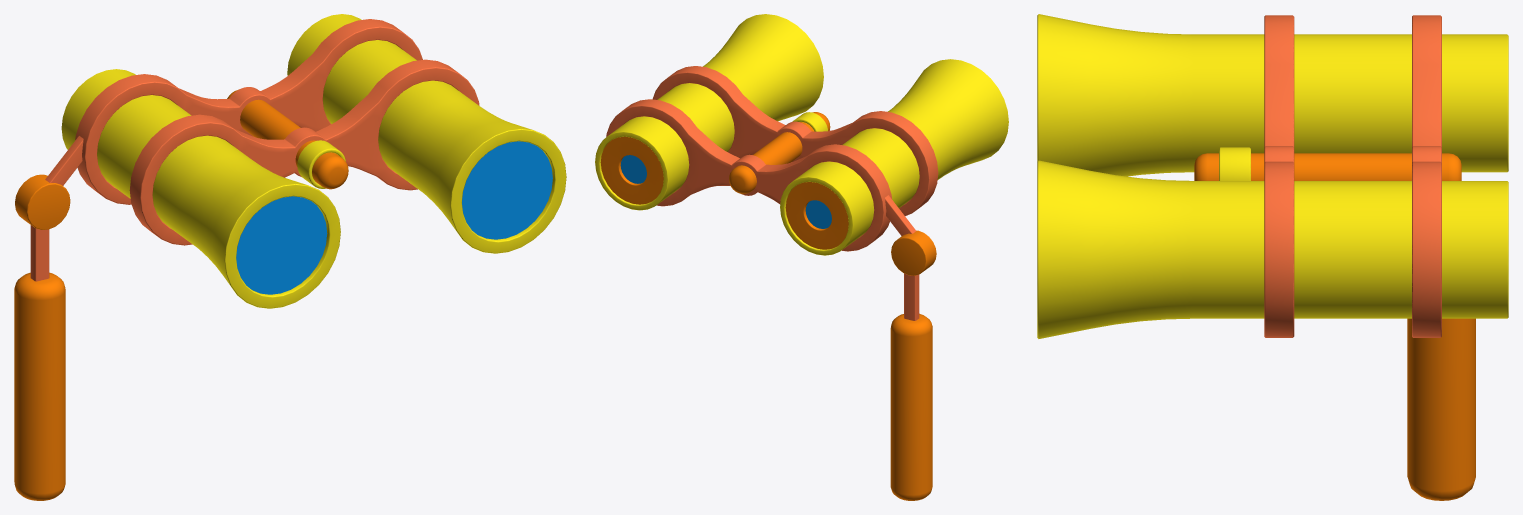
File: Public_12_Binoculars_2.glb
3 renders of one model, left to right at view 1: azimuth 30°, elevation 25°; view 2: azimuth 150°, elevation 25°; view 3: azimuth 270°, elevation 25°, orthographic. The views are drawn at different scales.
Parts seen in each view (by area): view 1: Public_12_Binoculars_2; view 2: Public_12_Binoculars_2; view 3: Public_12_Binoculars_2.
Part boxes in pixels (x1,y1,x2,y2): Public_12_Binoculars_2: (14, 14, 566, 500); Public_12_Binoculars_2: (595, 14, 1008, 500); Public_12_Binoculars_2: (1037, 14, 1508, 500).
Size of the model in its own units: 3.41 by 3.26 by 2.64.
1 material, 1 textured.
